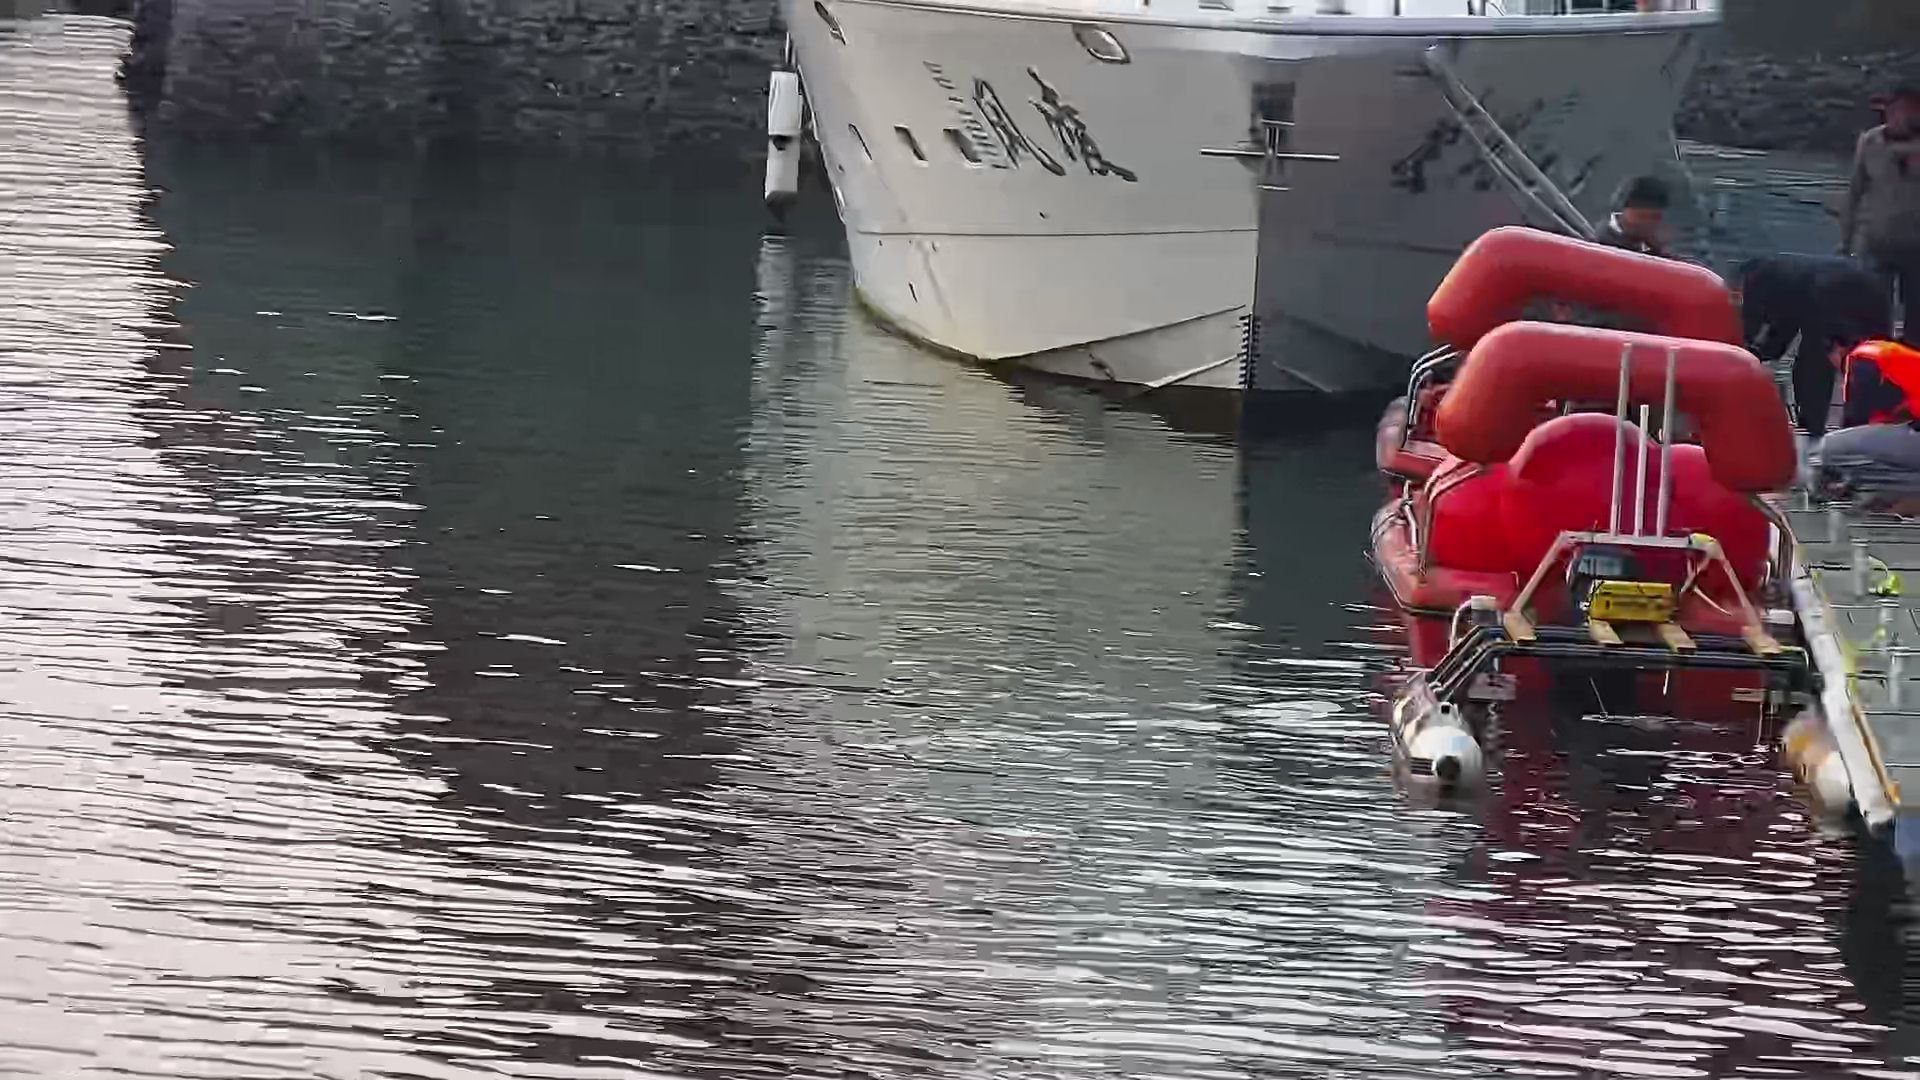boat: (1369, 549, 1840, 777)
